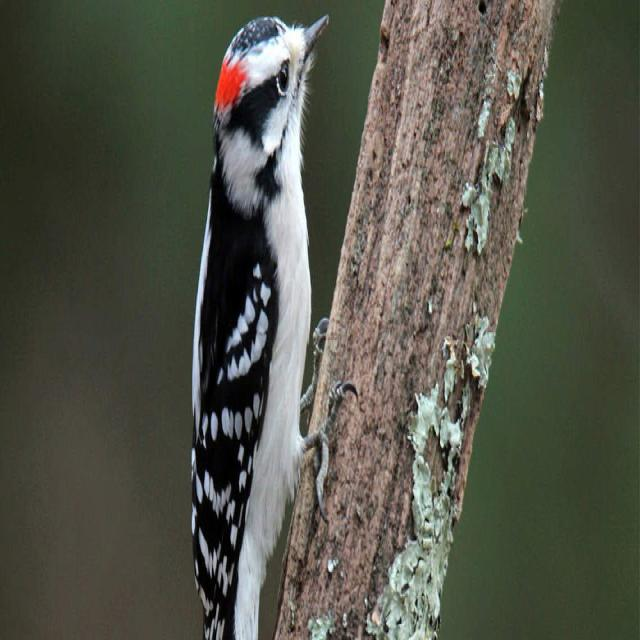Woodpecker: (186, 6, 330, 640)
